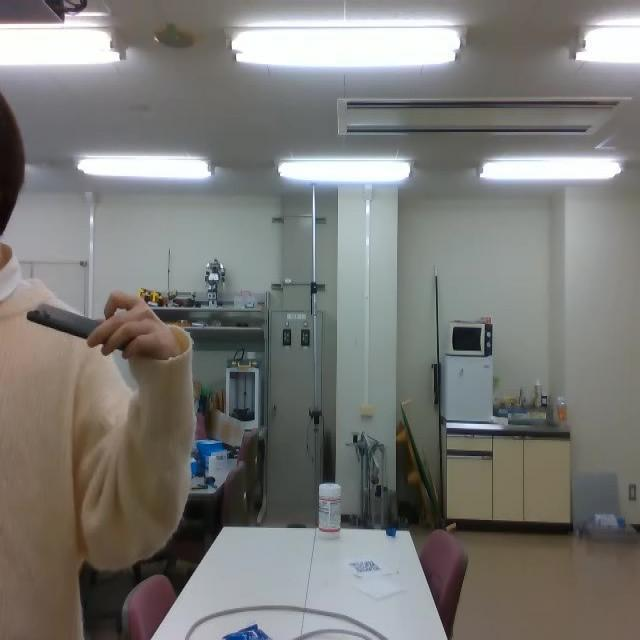Phone: (26, 300, 134, 352)
